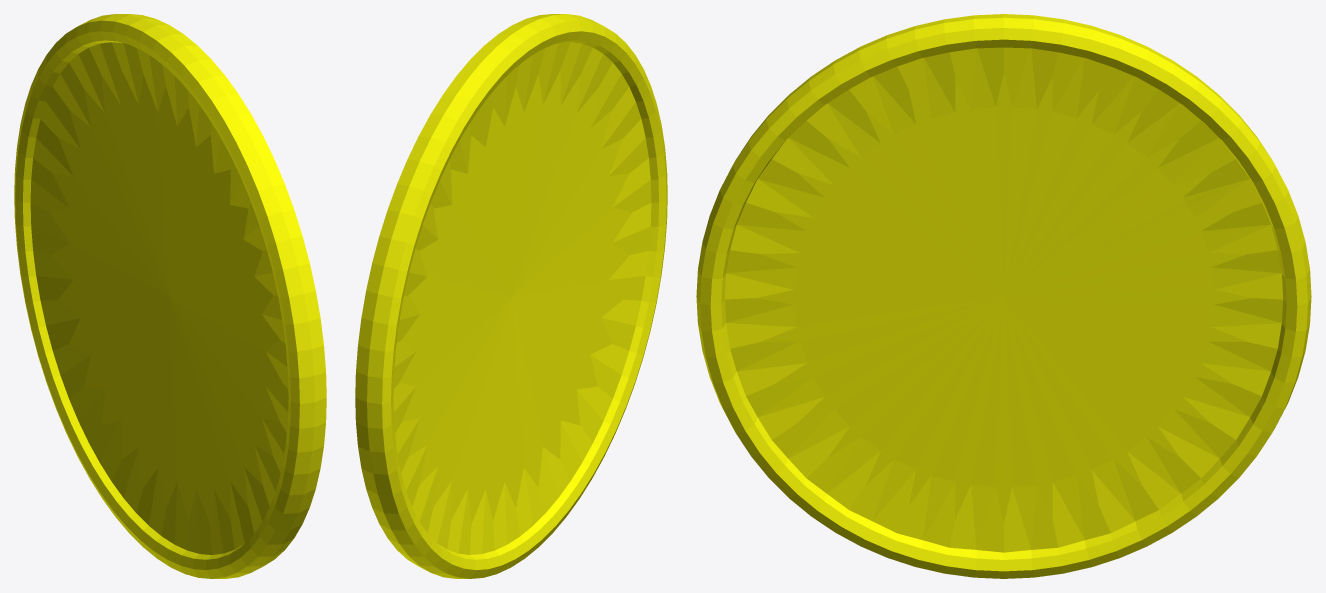
File: coin.fbx
3 views of the same model, side by side, from view 1: azimuth 30°, elevation 25°; view 2: azimuth 150°, elevation 25°; view 3: azimuth 270°, elevation 25° (orthographic). The views are drawn at different scales.
Visible parts, largest first — view 1: Cylinder; view 2: Cylinder; view 3: Cylinder.
Boxes of the visible parts, box(x1,y1,x2,y2) form: Cylinder: box(14, 14, 326, 578); Cylinder: box(355, 14, 667, 578); Cylinder: box(696, 14, 1311, 578).
Size of the model in its own units: 6.9 by 99.52 by 99.52.
